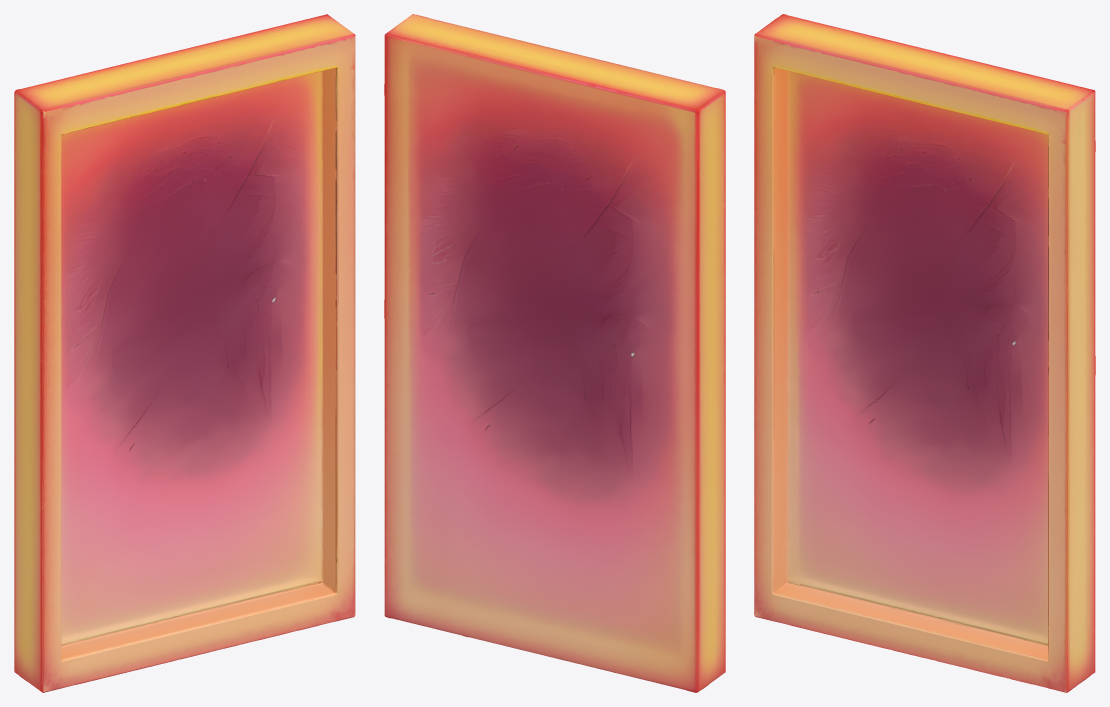
File: PortalDraco.glb
3 renders of one model, left to right at view 1: azimuth 30°, elevation 25°; view 2: azimuth 150°, elevation 25°; view 3: azimuth 330°, elevation 25°, orthographic.
Parts seen in each view (by area): view 1: model; view 2: model; view 3: model.
Boxes of the visible parts, box(x1,y1,x2,y2) form: model: box(14, 14, 355, 692); model: box(384, 14, 725, 692); model: box(754, 14, 1095, 692).
Size of the model in its own units: 1.07 by 1.9 by 0.1719.
Materials: 1 (1 with a texture image).
